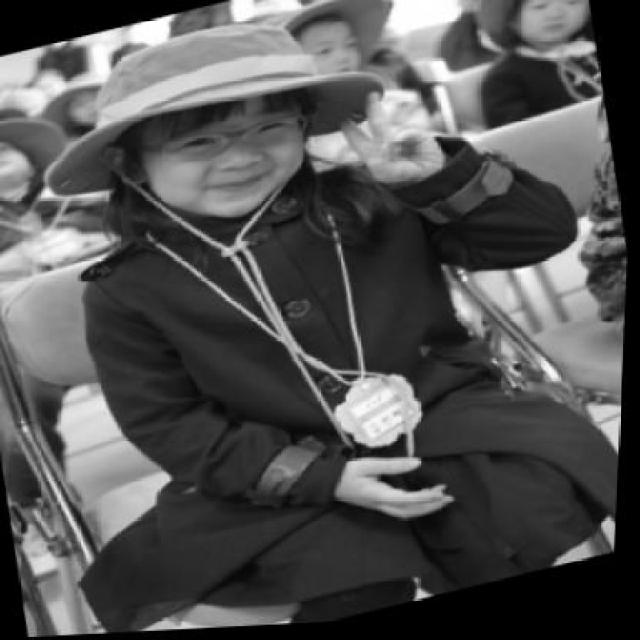hat: (44, 27, 381, 197)
